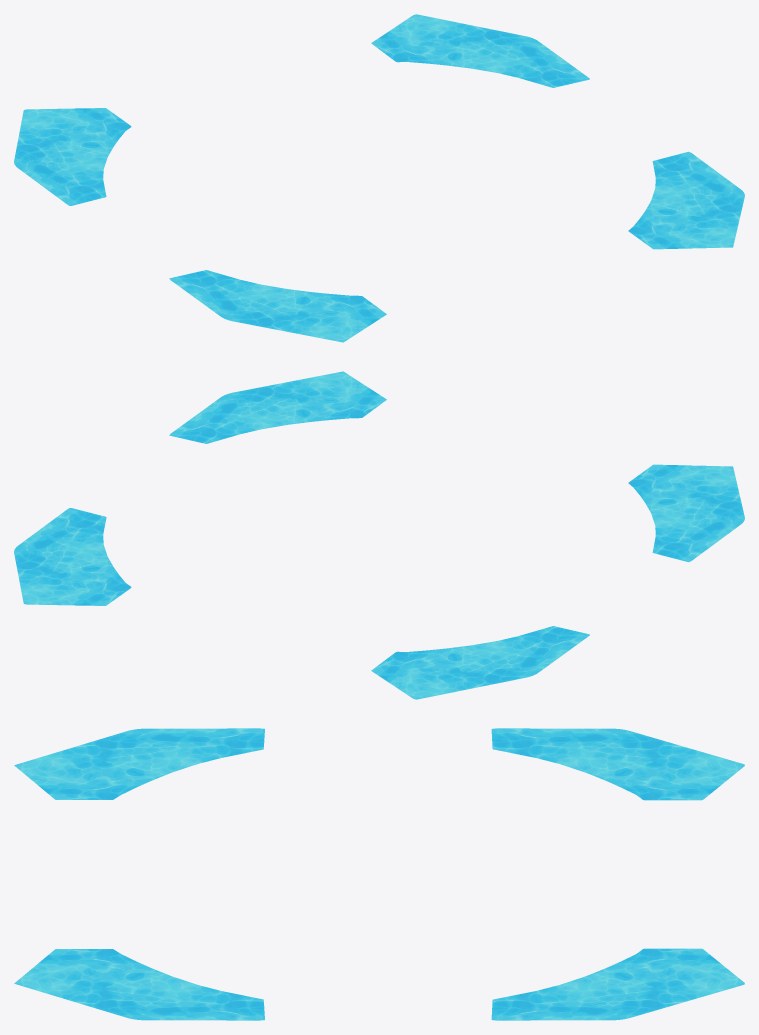
Rendered from pref_sm_beach_techcenter_WSJ_floor03_lv0.fbx.
3 views of the same model, one above another, from view 1: azimuth 30°, elevation 25°; view 2: azimuth 150°, elevation 25°; view 3: azimuth 270°, elevation 25° (orthographic). The views are drawn at different scales.
Visible parts, largest first — view 1: pref_sm_beach_techcenter_WSJ_floor03_lv0; view 2: pref_sm_beach_techcenter_WSJ_floor03_lv0; view 3: pref_sm_beach_techcenter_WSJ_floor03_lv0.
Boxes of the visible parts, left/top/right/bottom form: pref_sm_beach_techcenter_WSJ_floor03_lv0: left=14, top=14, right=744, bottom=342; pref_sm_beach_techcenter_WSJ_floor03_lv0: left=14, top=371, right=744, bottom=699; pref_sm_beach_techcenter_WSJ_floor03_lv0: left=14, top=728, right=744, bottom=1020.
Bounding box in the file's own units: 29.8 × 0.00175 × 31.51.
